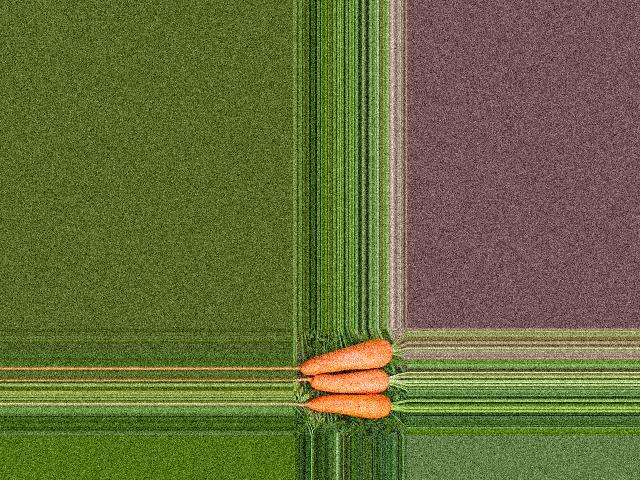carrot: (299, 337, 393, 375)
